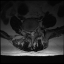CCS_normal: (31, 30, 33, 37)
LFS_normal: (35, 26, 37, 33)
LLS_normal: (33, 29, 35, 36)
RFS_normal: (27, 29, 29, 35)
RLS_normal: (29, 30, 31, 36)
